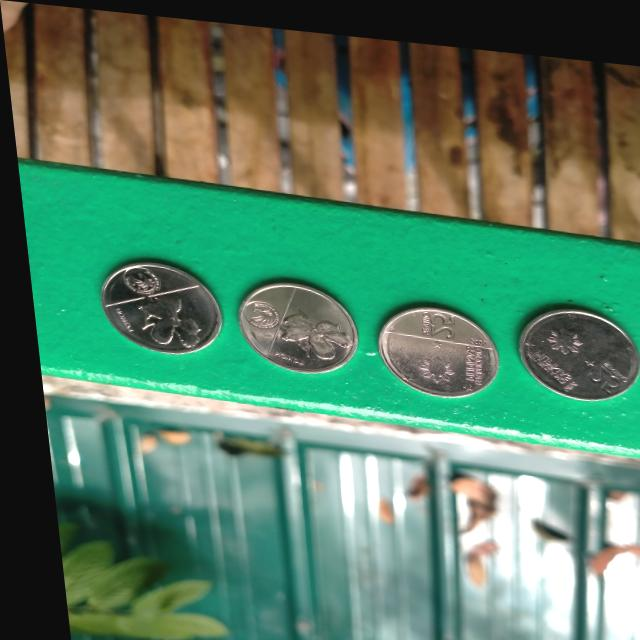25Cent_New_Back: (236, 288, 348, 358)
25Cent_New_Front: (522, 309, 618, 389)
